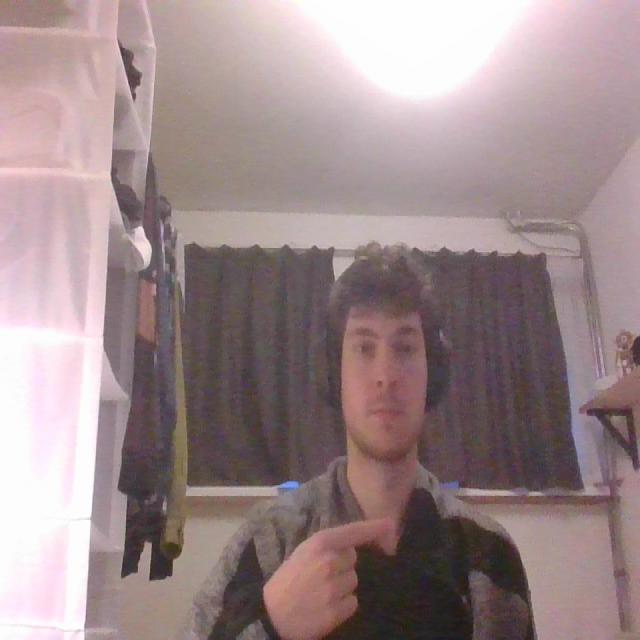right: (261, 510, 408, 639)
